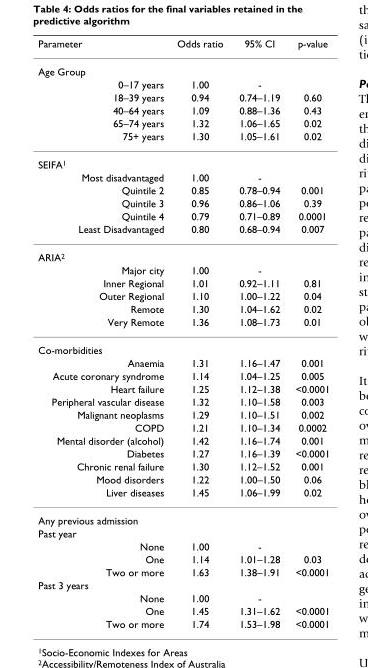table: (37, 37, 329, 629)
table column: (37, 37, 169, 629), (169, 37, 230, 629), (230, 37, 287, 629), (287, 37, 329, 629)
table column header: (37, 37, 329, 57)
table projected row header: (37, 149, 329, 170), (37, 242, 329, 263), (37, 505, 329, 526), (37, 57, 329, 77), (37, 335, 329, 355), (37, 526, 329, 539), (37, 578, 329, 591)
table row: (37, 149, 329, 170), (37, 242, 329, 263), (37, 314, 329, 335), (37, 505, 329, 526), (37, 37, 329, 57), (37, 57, 329, 77), (37, 129, 329, 149), (37, 222, 329, 242), (37, 335, 329, 355), (37, 485, 329, 505), (37, 77, 329, 90), (37, 90, 329, 103), (37, 103, 329, 116), (37, 116, 329, 129), (37, 170, 329, 183), (37, 183, 329, 196), (37, 196, 329, 209), (37, 209, 329, 222), (37, 263, 329, 276), (37, 276, 329, 289), (37, 289, 329, 302), (37, 355, 329, 368), (37, 368, 329, 381), (37, 381, 329, 394), (37, 394, 329, 407), (37, 407, 329, 420), (37, 420, 329, 433), (37, 433, 329, 446), (37, 446, 329, 459), (37, 459, 329, 472), (37, 472, 329, 485), (37, 526, 329, 539), (37, 539, 329, 552), (37, 552, 329, 565), (37, 565, 329, 578), (37, 578, 329, 591), (37, 591, 329, 604), (37, 604, 329, 617), (37, 302, 329, 314), (37, 617, 329, 629)
